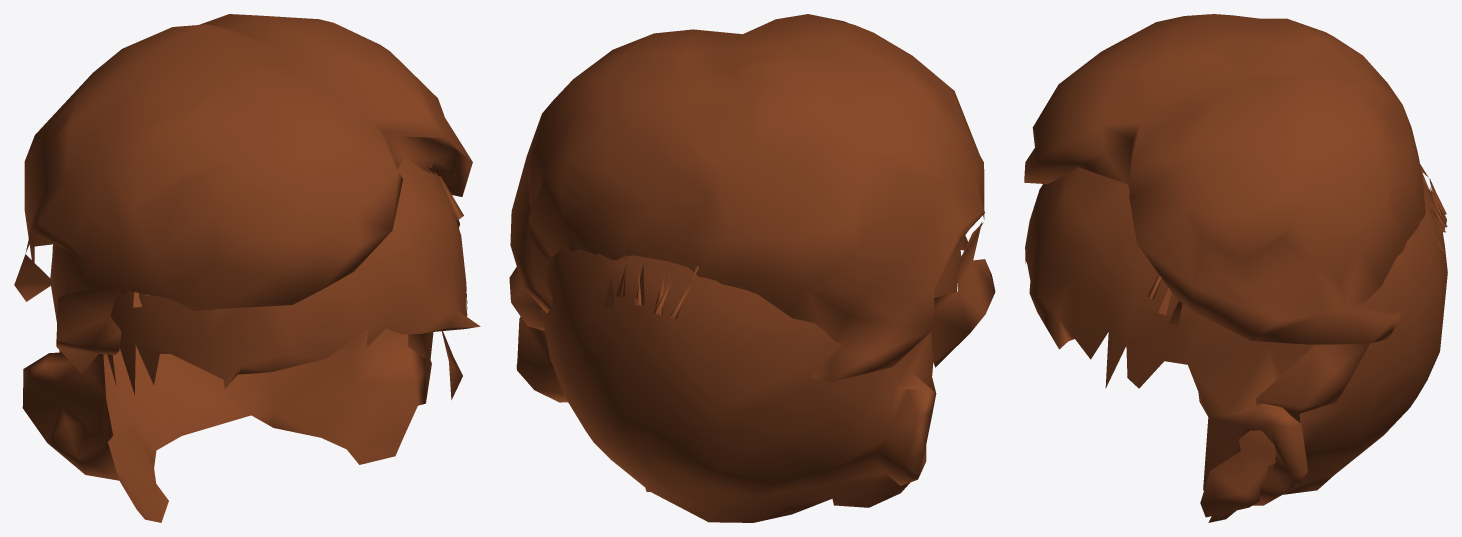
File: braid.glb
3 renders of one model, left to right at view 1: azimuth 30°, elevation 25°; view 2: azimuth 150°, elevation 25°; view 3: azimuth 270°, elevation 25°, orthographic. The views are drawn at different scales.
Visible parts, largest first — view 1: Hair, HairScalp; view 2: Hair, HairScalp, HairPulledRootStrands; view 3: Hair, HairScalp, HairPulledRootStrands.
Part boxes in pixels (x1,y1,x2,y2): Hair: (14,14,472,399); HairScalp: (22,157,480,522); Hair: (509,14,995,382); HairScalp: (516,235,967,522); HairPulledRootStrands: (603,243,960,318); Hair: (1024,14,1425,517); HairScalp: (1025,167,1447,522); HairPulledRootStrands: (1147,164,1447,325).
Size of the model in its own units: 0.4869 by 0.4897 by 0.4419.
